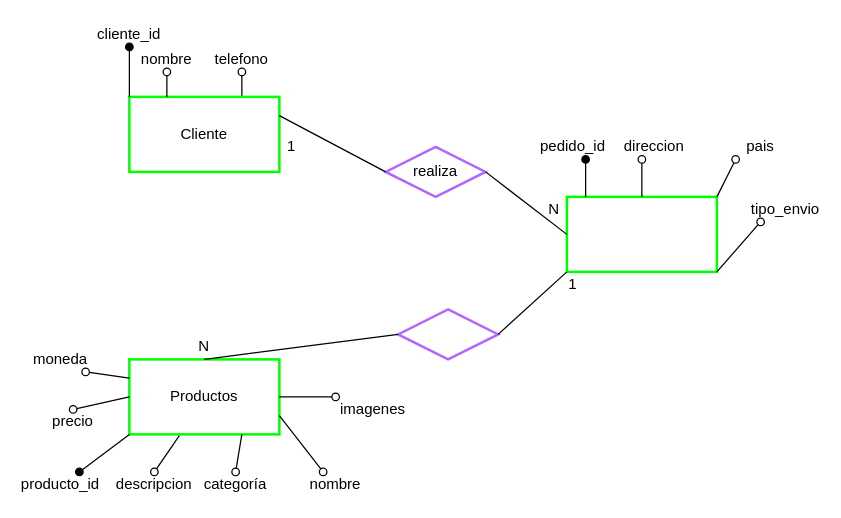
Image size: 841x518. Some labels were removed from this diagram. Each missing label, with the box of its shape:
Pedido: (565, 195, 718, 272)
selecciona: (396, 308, 499, 360)
